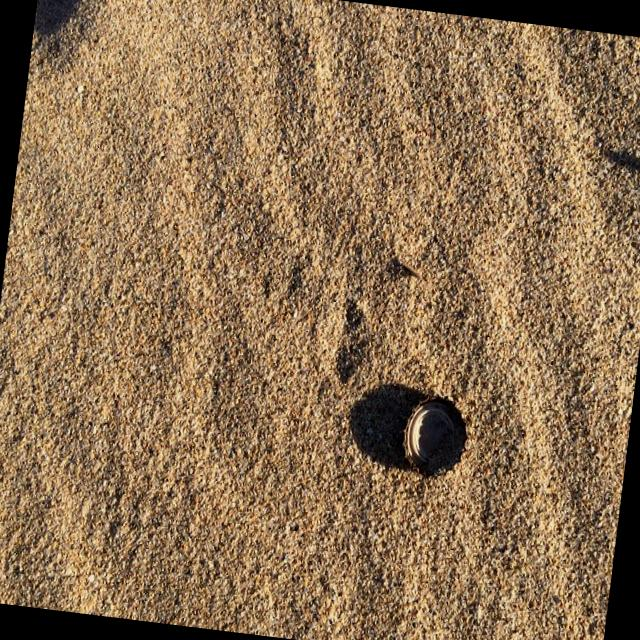Trash: (397, 388, 474, 481)
